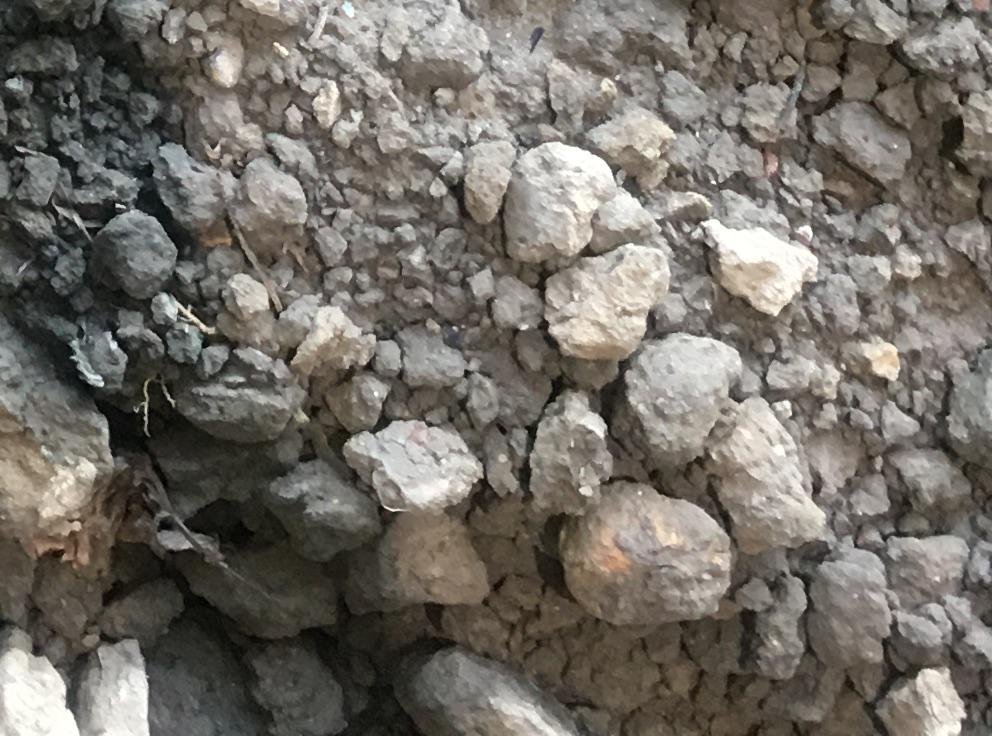block: (557, 476, 730, 625), (709, 394, 842, 555), (334, 509, 491, 616), (538, 240, 669, 363), (624, 332, 738, 470), (340, 417, 484, 514), (499, 139, 614, 260), (254, 460, 377, 559), (167, 356, 301, 445)
